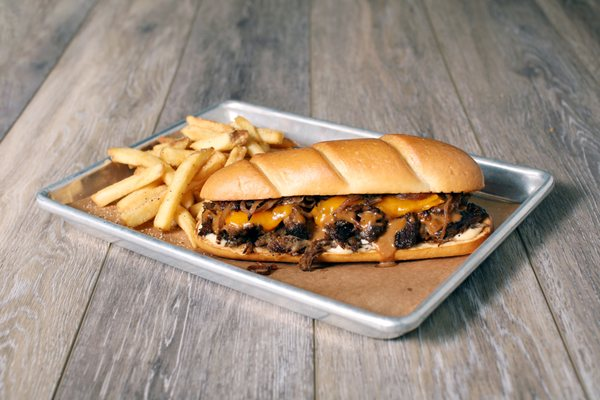soup: (183, 134, 491, 266)
